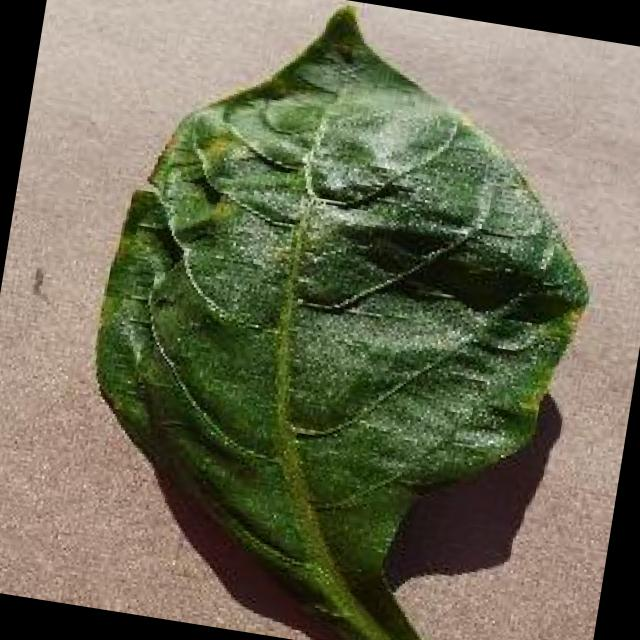Chilli_Bacterial_Spot: (48, 0, 632, 640), (313, 0, 373, 68)
